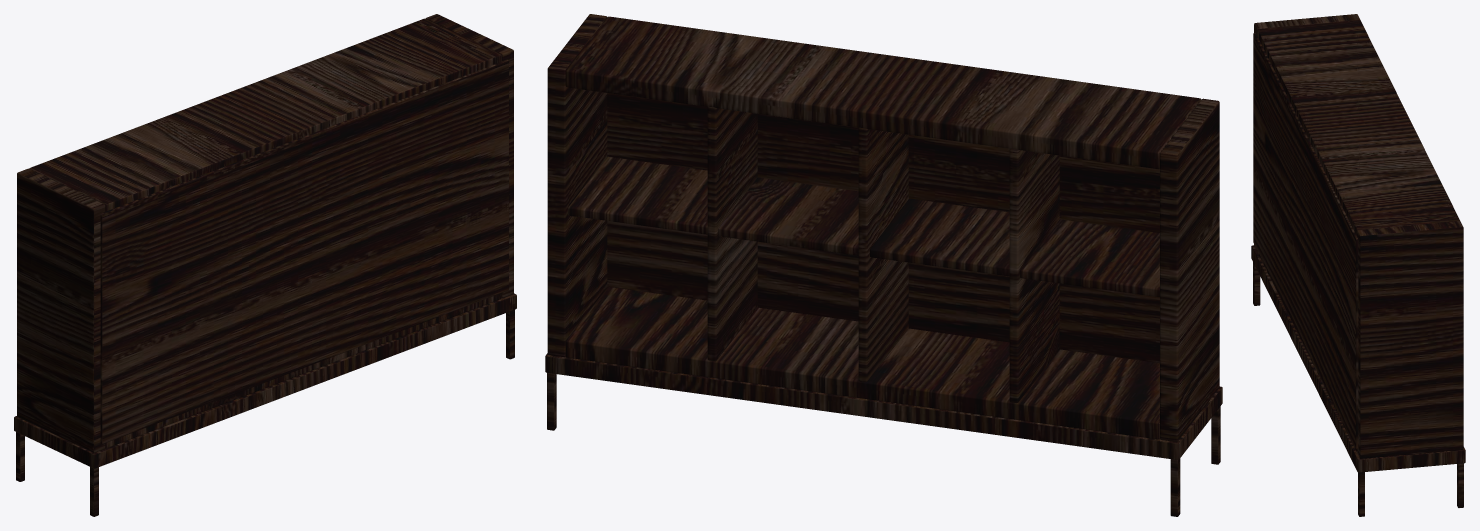
Rendered from bookcase.glb.
3 renders of one model, left to right at view 1: azimuth 30°, elevation 25°; view 2: azimuth 150°, elevation 25°; view 3: azimuth 270°, elevation 25°, orthographic. The views are drawn at different scales.
Visible parts, largest first — view 1: back_panel_mesh_n3d, outer_structure_mesh_n3d, legs_mesh_n3d; view 2: outer_structure_mesh_n3d, back_panel_mesh_n3d, legs_mesh_n3d, center_structure_002_mesh_n3d, center_structure_003_mesh_n3d, center_structure_001_mesh_n3d, shelves_003_mesh_n3d, shelves_004_mesh_n3d, shelves_001_mesh_n3d, shelves_002_mesh_n3d; view 3: outer_structure_mesh_n3d, back_panel_mesh_n3d, legs_mesh_n3d.
Boxes of the visible parts, x1=… form: back_panel_mesh_n3d: x1=100, y1=59, x2=508, y2=443; outer_structure_mesh_n3d: x1=17, y1=14, x2=513, y2=452; legs_mesh_n3d: x1=14, y1=293, x2=516, y2=516; outer_structure_mesh_n3d: x1=547, y1=14, x2=1219, y2=441; back_panel_mesh_n3d: x1=607, y1=93, x2=1159, y2=363; legs_mesh_n3d: x1=545, y1=353, x2=1222, y2=516; center_structure_002_mesh_n3d: x1=858, y1=127, x2=908, y2=382; center_structure_003_mesh_n3d: x1=707, y1=106, x2=757, y2=361; center_structure_001_mesh_n3d: x1=1009, y1=148, x2=1059, y2=403; shelves_003_mesh_n3d: x1=718, y1=177, x2=858, y2=255; shelves_004_mesh_n3d: x1=869, y1=198, x2=1009, y2=276; shelves_001_mesh_n3d: x1=568, y1=156, x2=707, y2=234; shelves_002_mesh_n3d: x1=1020, y1=219, x2=1159, y2=297; outer_structure_mesh_n3d: x1=1254, y1=14, x2=1463, y2=458; back_panel_mesh_n3d: x1=1253, y1=32, x2=1358, y2=448; legs_mesh_n3d: x1=1251, y1=245, x2=1465, y2=516.
Size of the model in its own units: 2.01 by 1.18 by 0.8128.
Materials: 1 (1 with a texture image).
